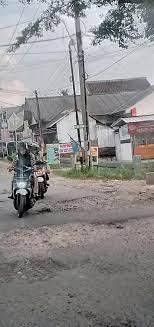Pothole: (35, 183, 154, 211)
